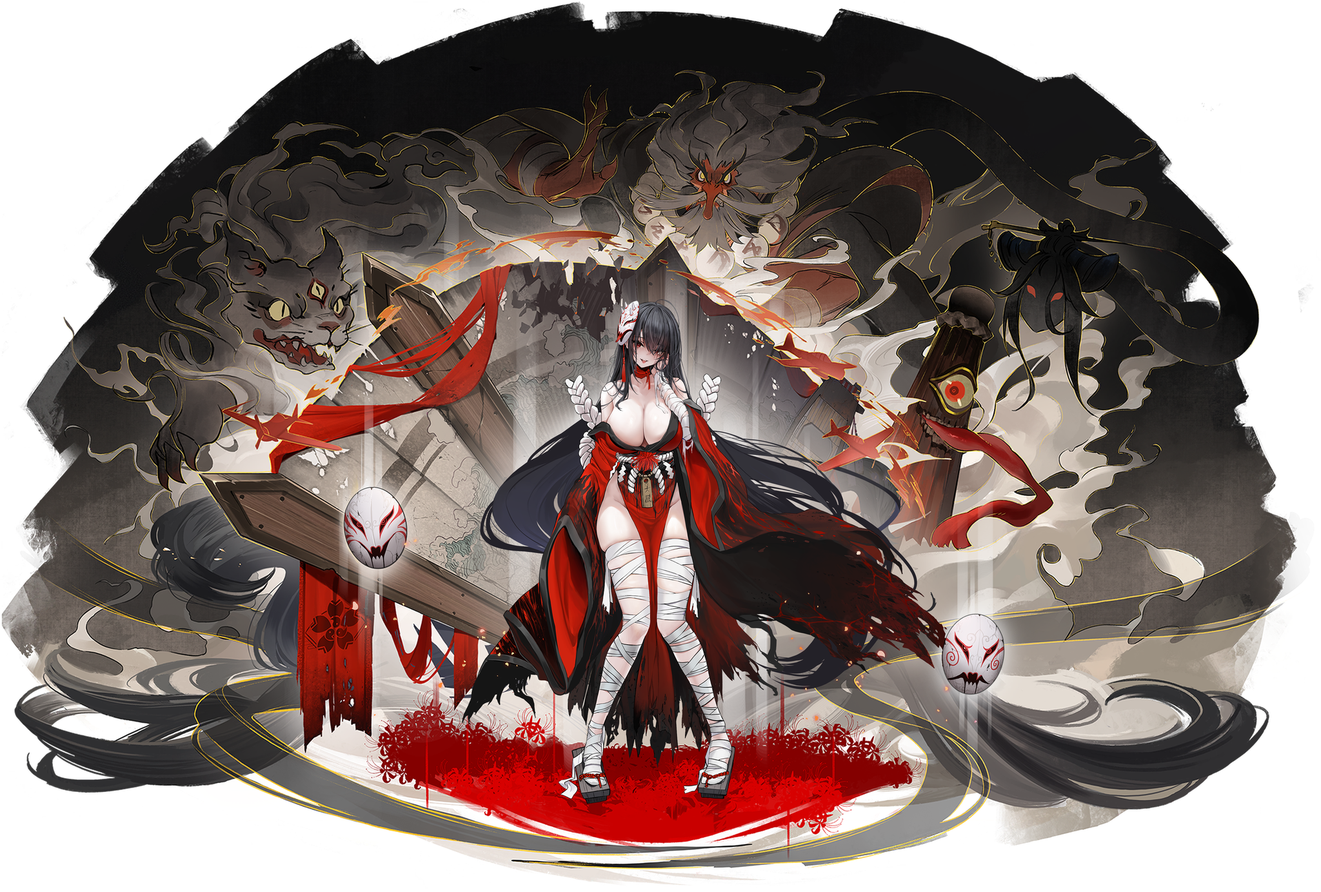person: (473, 284, 778, 828)
